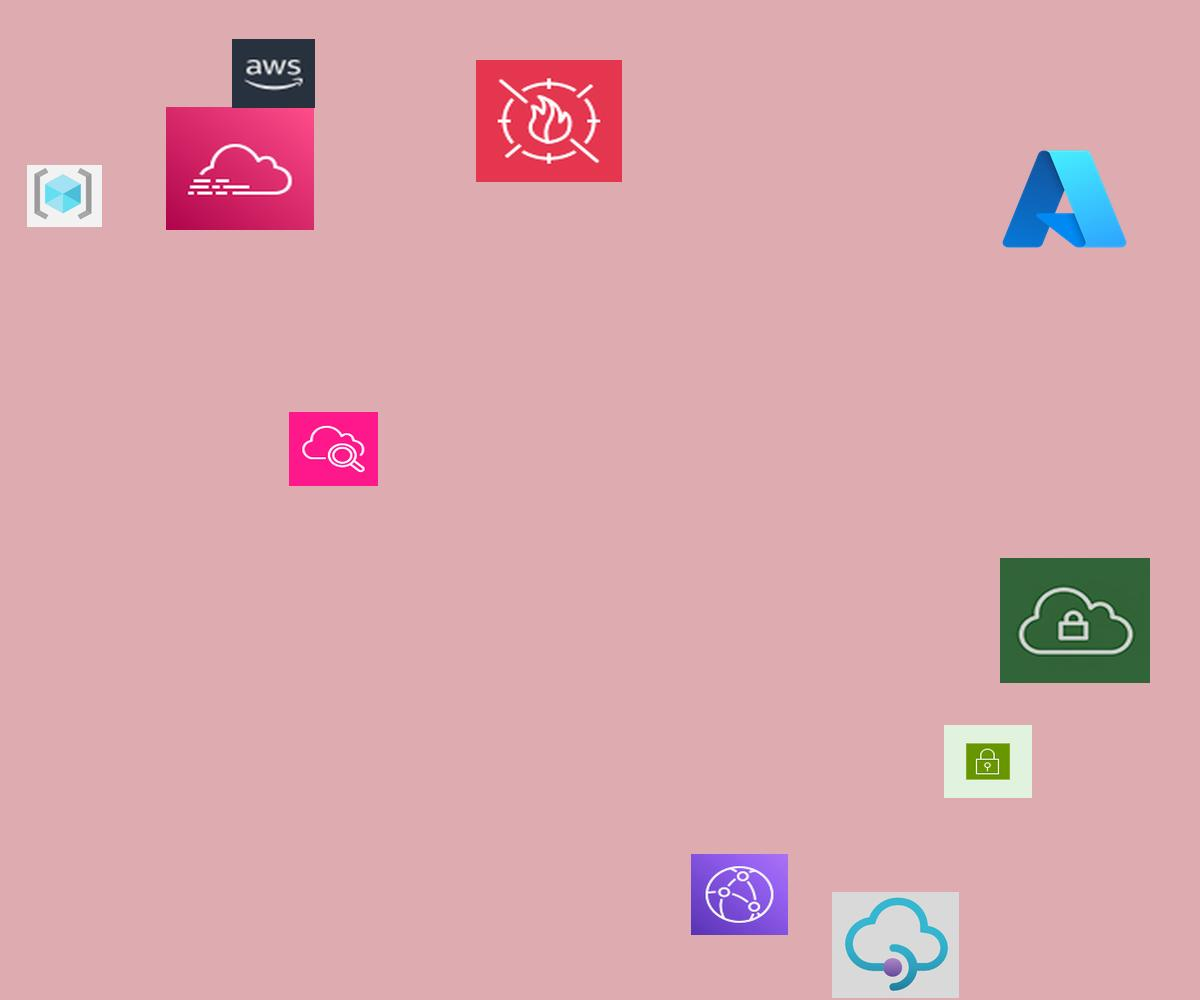AWS-Cloud-logo: (232, 39, 315, 108)
AWS-CloudFront: (691, 854, 788, 935)
AWS-CloudTrail: (166, 107, 314, 230)
AWS-CloudWatch: (289, 412, 378, 486)
AWS-Private_vpc: (1000, 558, 1150, 683)
AWS-Public-subnet: (944, 725, 1032, 798)
AWS-WAF: (476, 60, 622, 182)
Azure_api_gateway: (832, 892, 959, 998)
Azure_resource_group: (27, 165, 102, 227)
Azure_services: (997, 143, 1132, 255)
